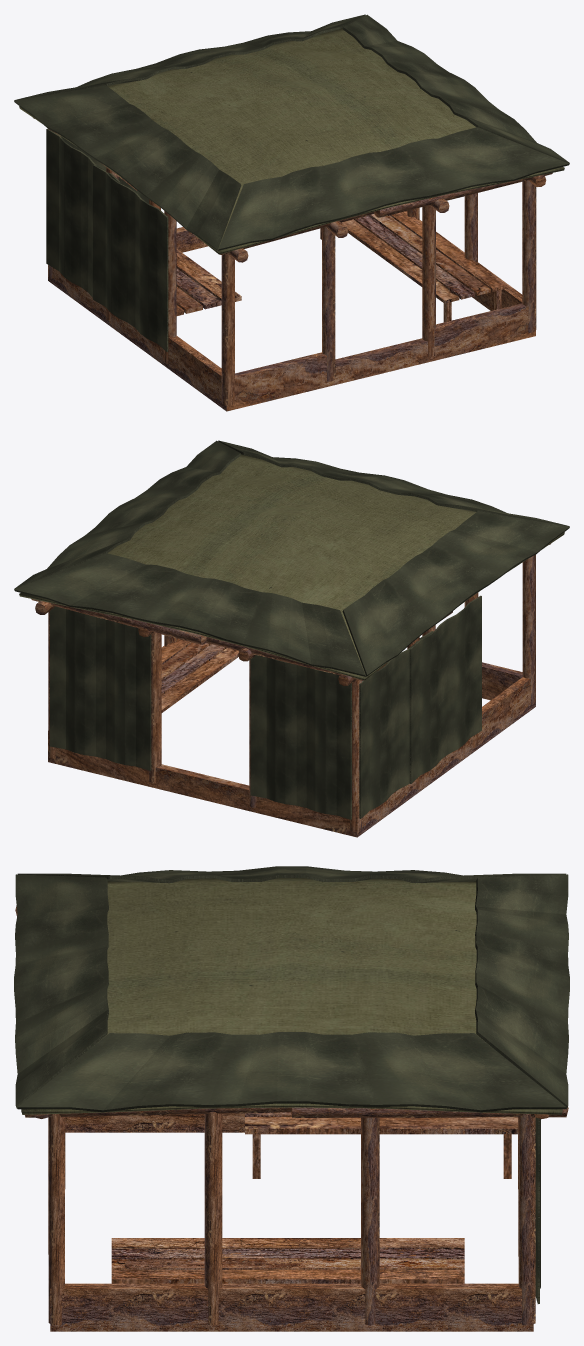
File: ham keo.fbx
3 views of the same model, one above another, from view 1: azimuth 30°, elevation 25°; view 2: azimuth 150°, elevation 25°; view 3: azimuth 270°, elevation 25° (orthographic). The views are drawn at different scales.
Parts seen in each view (by area): view 1: Plane.001, Plane.002, Cube.001, Plane.003, Plane.007, Plane.006, Cube.003, Plane.005, Plane.004, Cube.002, Cylinder.016, Cylinder.019 (+5 smaller); view 2: Plane.001, Plane.004, Plane.008, Plane.009, Plane.003, Cube.001, Plane.007, Plane.006, Plane.005, Plane.002, Cube.003, Cylinder.016 (+4 smaller); view 3: Plane.001, Plane.005, Cube.001, Plane.002, Plane.004, Cube.003, Cube.002, Plane.003, Cylinder.020, Cylinder.021, Cylinder.022, Cylinder.019 (+3 smaller).
Boxes of the visible parts, left/top/right/bottom form: Plane.001: left=19, top=28, right=564, bottom=254; Plane.002: left=218, top=127, right=569, bottom=250; Cube.001: left=48, top=211, right=535, bottom=411; Plane.003: left=14, top=85, right=241, bottom=250; Plane.007: left=93, top=164, right=168, bottom=351; Plane.006: left=46, top=128, right=120, bottom=297; Cube.003: left=320, top=211, right=507, bottom=322; Plane.005: left=343, top=14, right=569, bottom=163; Plane.004: left=14, top=14, right=365, bottom=100; Cube.002: left=176, top=249, right=241, bottom=315; Cylinder.016: left=221, top=254, right=234, bottom=406; Cylinder.019: left=522, top=180, right=536, bottom=332; Plane.001: left=19, top=454, right=564, bottom=680; Plane.004: left=14, top=553, right=365, bottom=676; Plane.008: left=250, top=655, right=351, bottom=819; Plane.009: left=50, top=606, right=151, bottom=770; Plane.003: left=342, top=511, right=569, bottom=676; Cube.001: left=48, top=645, right=535, bottom=837; Plane.007: left=409, top=595, right=481, bottom=783; Plane.006: left=359, top=631, right=433, bottom=818; Plane.005: left=14, top=440, right=240, bottom=589; Plane.002: left=218, top=440, right=569, bottom=526; Cube.003: left=161, top=638, right=238, bottom=712; Cylinder.016: left=522, top=554, right=535, bottom=704; Plane.001: left=21, top=878, right=562, bottom=1114; Plane.005: left=17, top=1032, right=566, bottom=1112; Cube.001: left=50, top=1113, right=533, bottom=1331; Plane.002: left=14, top=874, right=108, bottom=1108; Plane.004: left=475, top=874, right=569, bottom=1108; Cube.003: left=111, top=1238, right=464, bottom=1283; Cube.002: left=245, top=1112, right=517, bottom=1178; Plane.003: left=17, top=866, right=566, bottom=883; Cylinder.020: left=204, top=1112, right=222, bottom=1325; Cylinder.021: left=361, top=1117, right=379, bottom=1325; Cylinder.022: left=518, top=1113, right=535, bottom=1325; Cylinder.019: left=48, top=1114, right=64, bottom=1325.
Size of the model in its own units: 709 by 415 by 709.
Materials: 3 (3 with a texture image).
